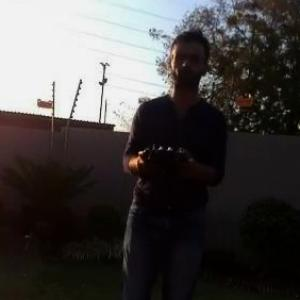follow: (114, 23, 231, 299)
